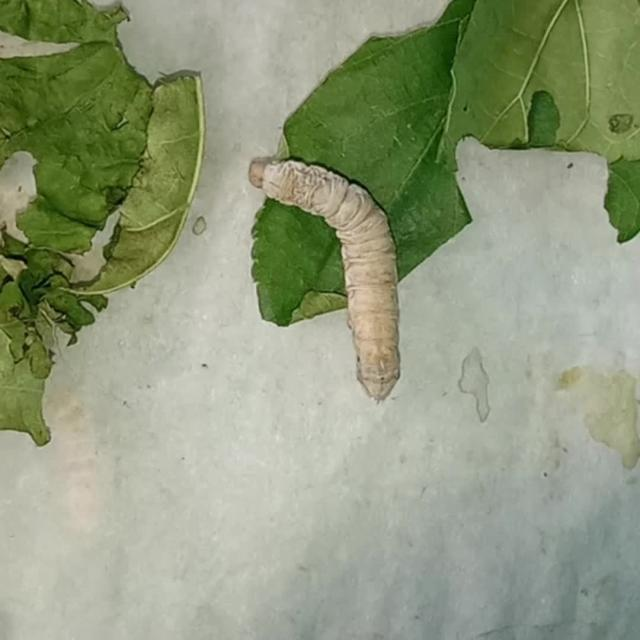Grasserie: (242, 148, 429, 413)
